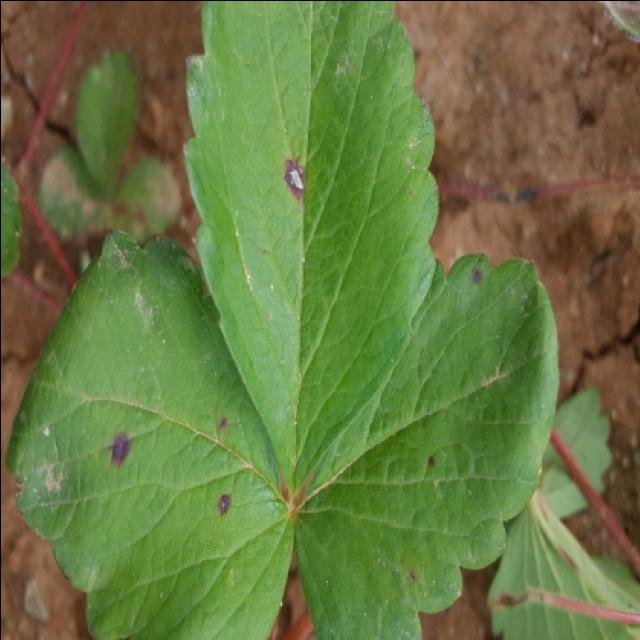Leaf Spot: (179, 2, 440, 509), (3, 225, 294, 640), (291, 251, 559, 640), (109, 150, 184, 245)
